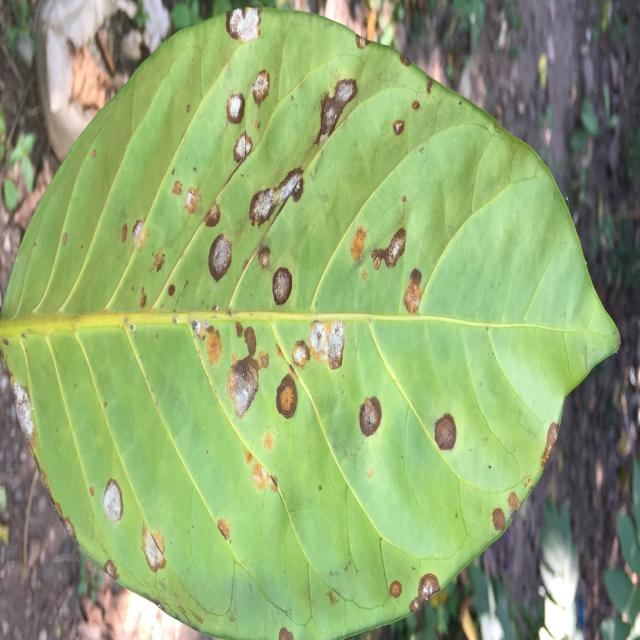Enfermedad-Mancha-de-hierro: (0, 8, 620, 640)
